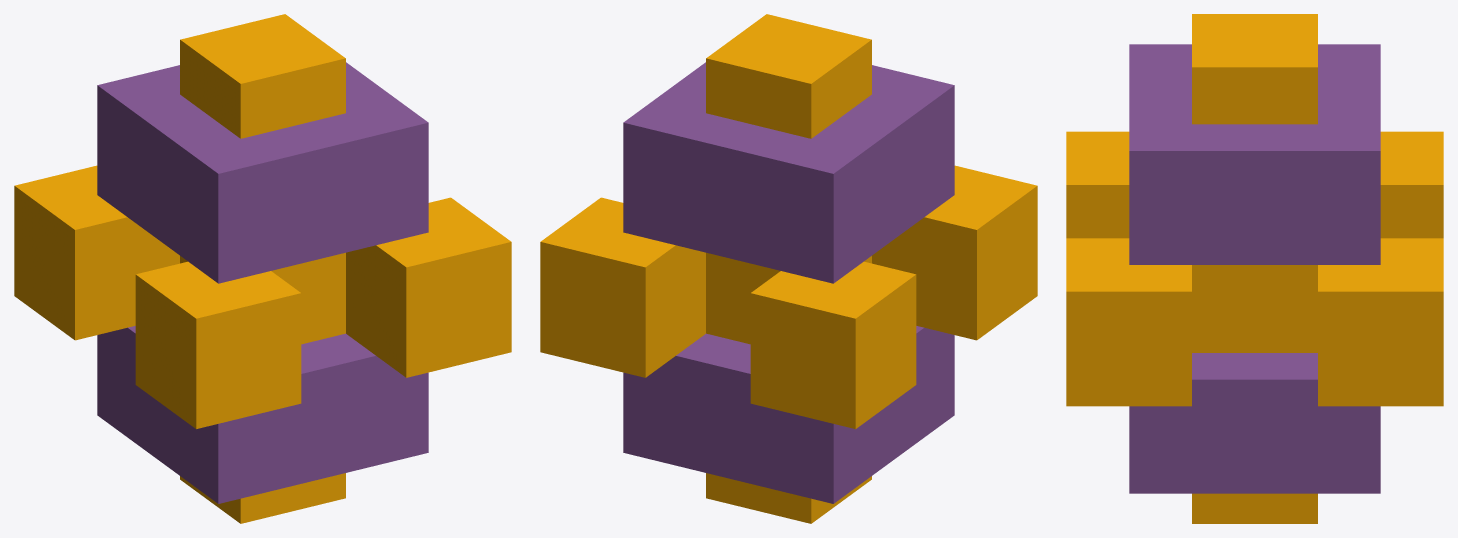
Rendered from egg_digital_saurus.obj.
3 renders of one model, left to right at view 1: azimuth 30°, elevation 25°; view 2: azimuth 150°, elevation 25°; view 3: azimuth 270°, elevation 25°, orthographic. The views are drawn at different scales.
Parts seen in each view (by area): view 1: egg_digital_saurus; view 2: egg_digital_saurus; view 3: egg_digital_saurus.
Boxes of the visible parts, x1,y1,x2,y2 form: egg_digital_saurus: (14, 14, 511, 523); egg_digital_saurus: (540, 14, 1037, 523); egg_digital_saurus: (1066, 14, 1443, 523).
Size of the model in its own units: 5.17 by 6.89 by 5.16.
